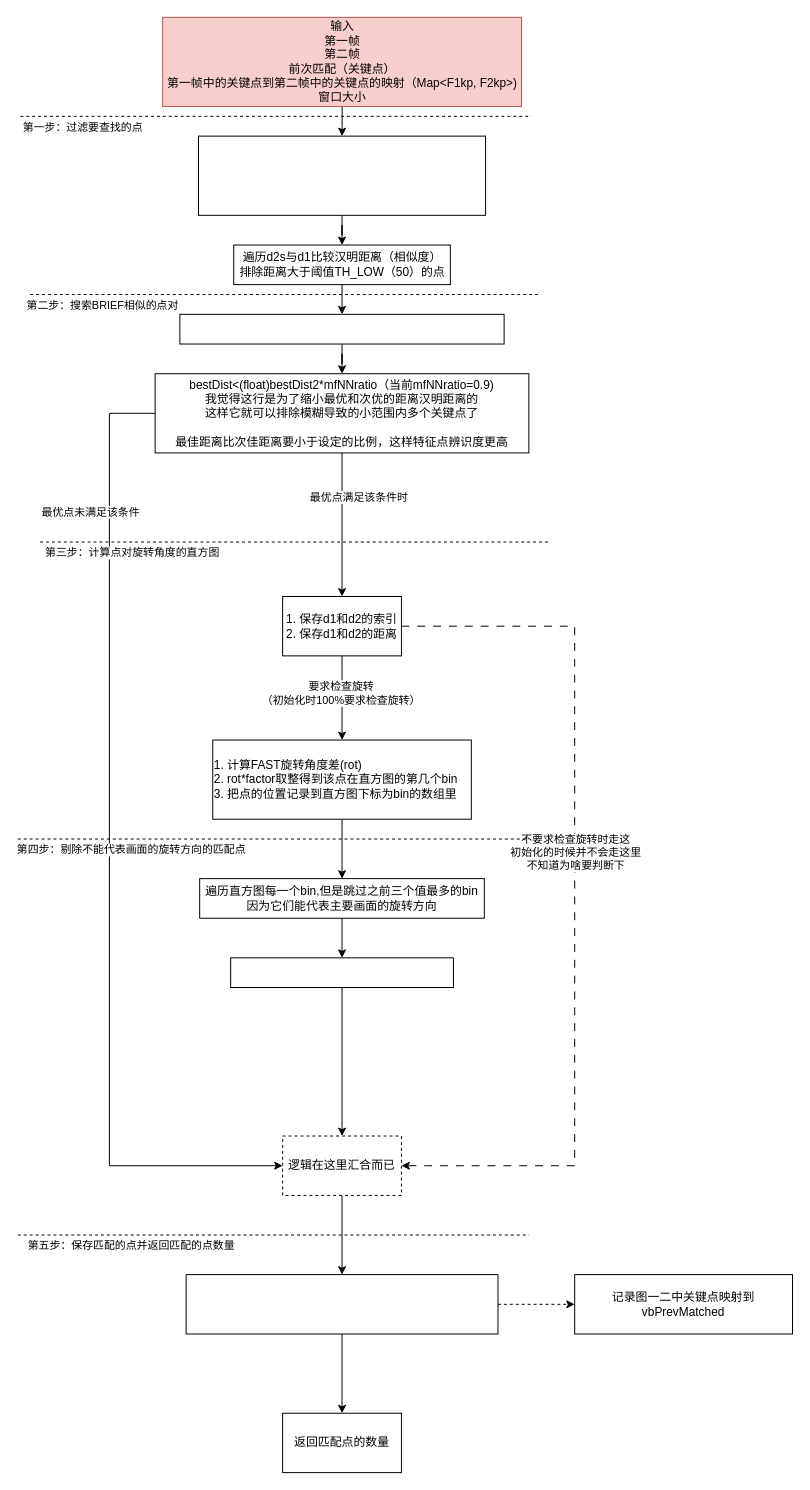
Some shapes in this 810 by 1490 pixel diagram are drawn without their labels. The centre of each missing label's shape, as x and y in pixels:
"从匹配结果中删掉其余的点对信息" goes at point (341, 972).
"更新‘前次匹配的点’并返回匹配的点数量" goes at point (341, 1304).
"筛选关键DIAN： 以图一中第零层（原图）中提取的关键点为原点（d1) 在窗口大小范围内查找图二中的关键帧(d2s[])" goes at point (342, 175).
"选取相似度最高（汉明距离最小）的两个点作为候选点" goes at point (341, 328).
